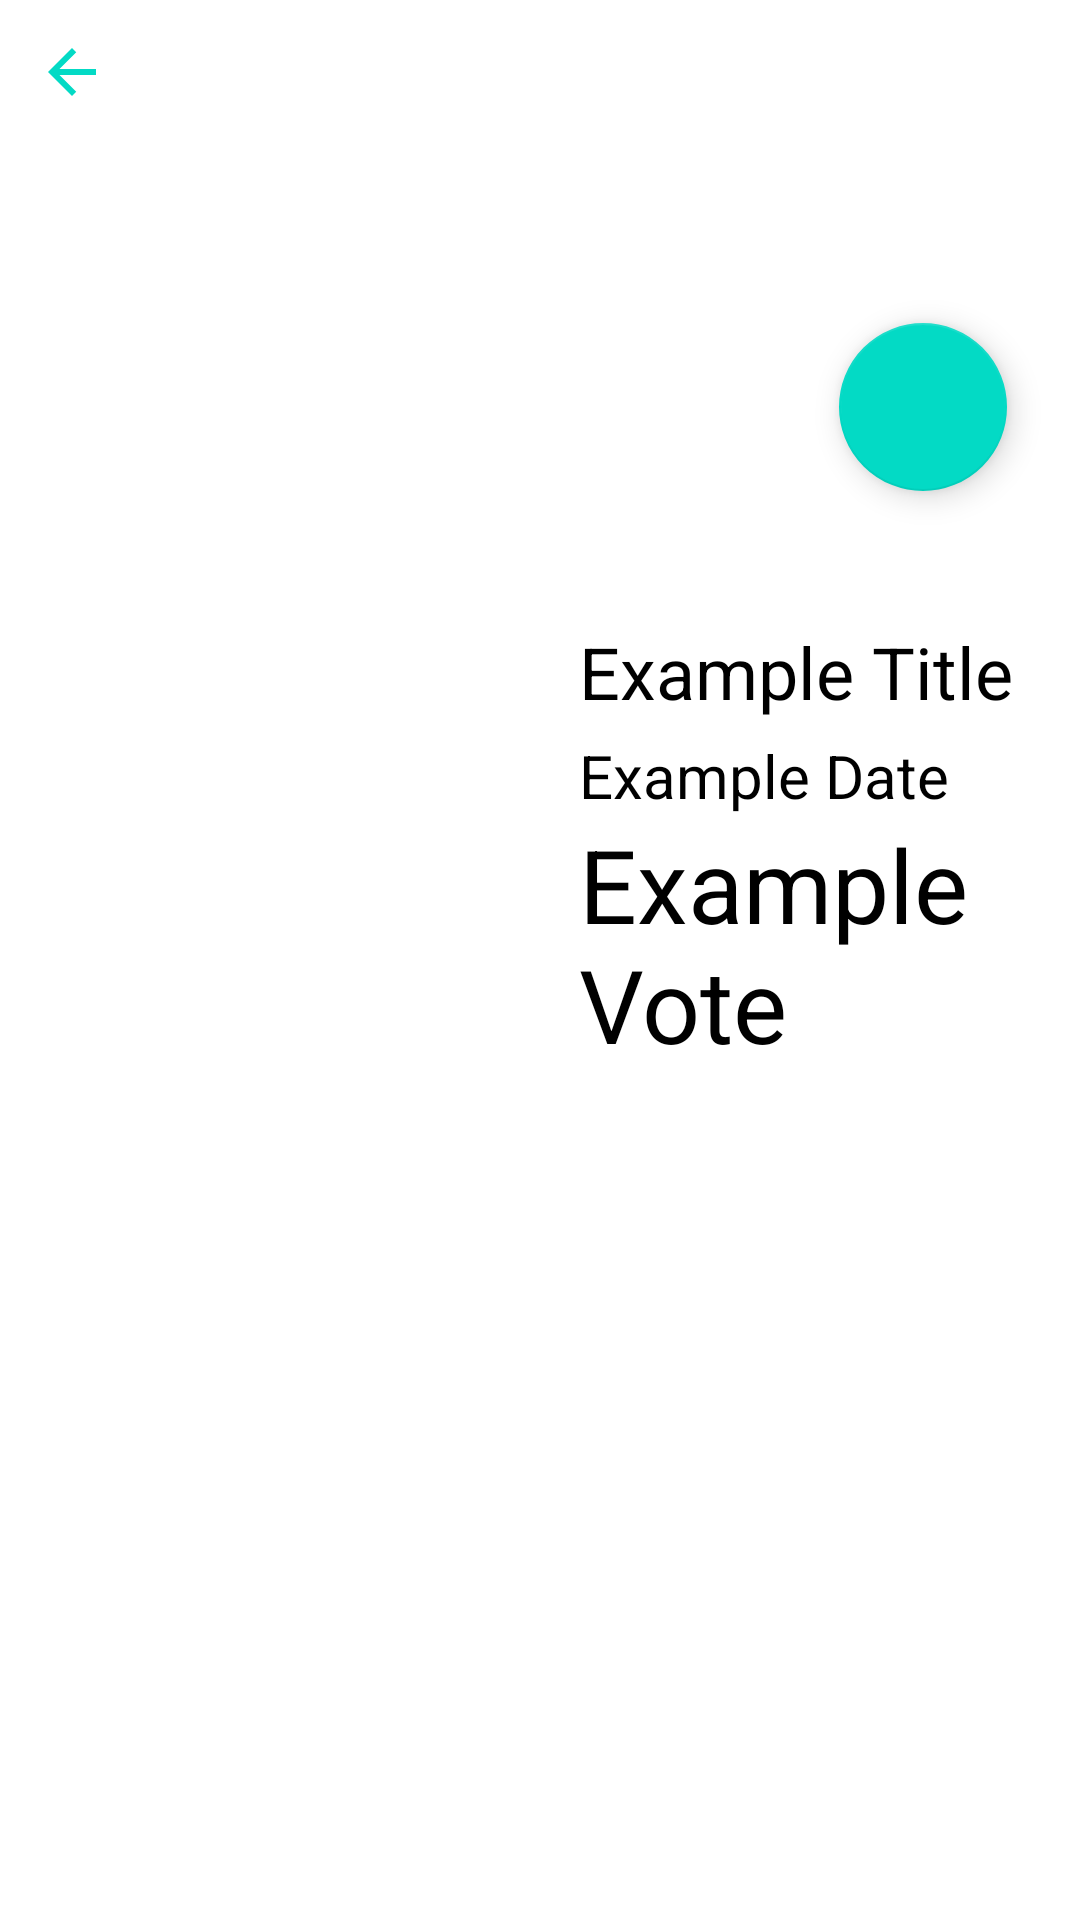

Icon bounding boxes for this 1080 x 1920 phone screenshot, format (x1, y1, x2, y2):
back: (48, 48, 96, 96)
